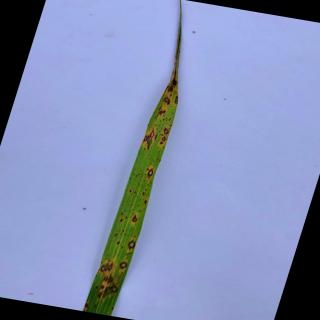Blast: (142, 129, 155, 150), (102, 285, 119, 299), (99, 262, 115, 273), (118, 258, 130, 272), (126, 239, 136, 253), (146, 168, 154, 180), (164, 96, 170, 105), (132, 214, 138, 223), (108, 275, 114, 284), (159, 110, 166, 116), (84, 302, 89, 310), (174, 95, 178, 104), (97, 292, 102, 299), (164, 128, 169, 134), (119, 218, 124, 224), (161, 136, 166, 141), (144, 199, 148, 205), (104, 276, 108, 282), (160, 141, 164, 145), (142, 192, 146, 196), (133, 235, 137, 238), (125, 216, 128, 219)
